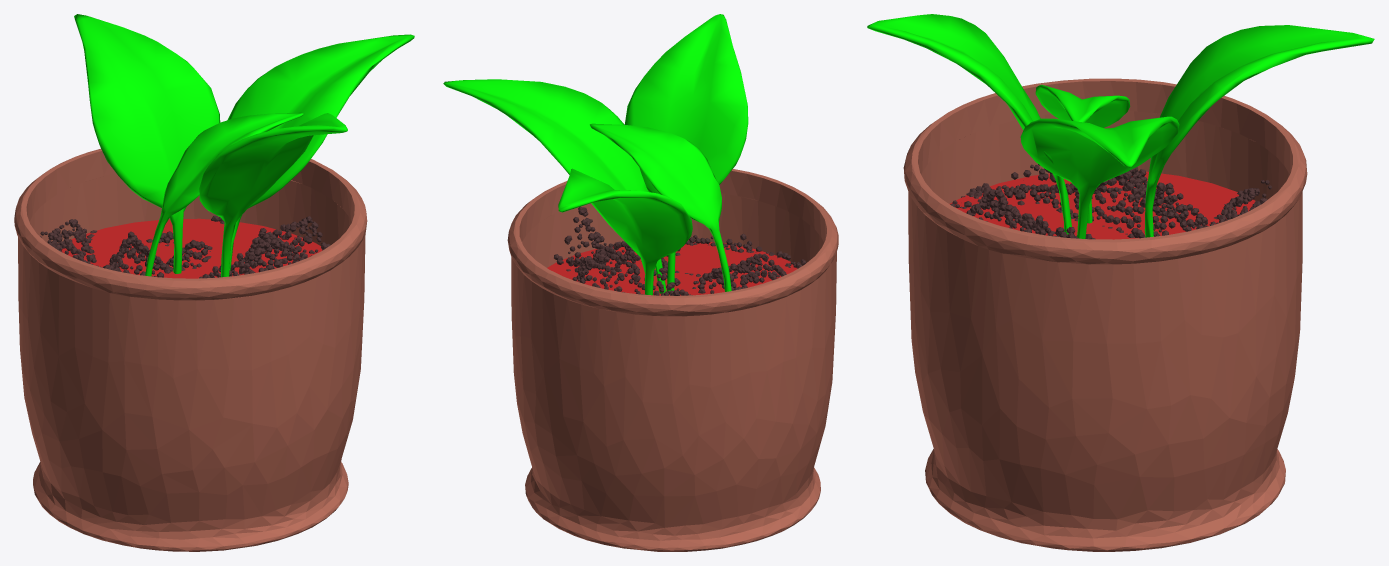
The model's file is plant.glb.
3 views of the same model, side by side, from view 1: azimuth 30°, elevation 25°; view 2: azimuth 150°, elevation 25°; view 3: azimuth 270°, elevation 25° (orthographic). The views are drawn at different scales.
Parts seen in each view (by area): view 1: FlowerPot, Plant.000, Plant.001, Plant.002, DirtGround, Plant.003; view 2: FlowerPot, Plant.002, Plant.001, Plant.003, Plant.000, DirtGround; view 3: FlowerPot, Plant.000, Plant.001, DirtGround, Plant.002, Plant.003.
Part boxes in pixels (bbox=[...]): FlowerPot: bbox=[14, 148, 367, 551]; Plant.000: bbox=[74, 14, 220, 273]; Plant.001: bbox=[227, 34, 414, 270]; Plant.002: bbox=[199, 113, 347, 277]; DirtGround: bbox=[61, 218, 322, 278]; Plant.003: bbox=[145, 112, 304, 276]; FlowerPot: bbox=[507, 169, 838, 551]; Plant.002: bbox=[624, 14, 748, 291]; Plant.001: bbox=[443, 79, 666, 293]; Plant.003: bbox=[590, 123, 731, 291]; Plant.000: bbox=[558, 168, 692, 295]; DirtGround: bbox=[547, 240, 797, 295]; FlowerPot: bbox=[903, 78, 1307, 551]; Plant.000: bbox=[1144, 25, 1374, 237]; Plant.001: bbox=[1020, 116, 1179, 238]; DirtGround: bbox=[949, 171, 1255, 239]; Plant.002: bbox=[867, 14, 1071, 234]; Plant.003: bbox=[1035, 84, 1130, 223].
Bounding box in the file's own units: 2.57 × 2.67 × 2.56.
